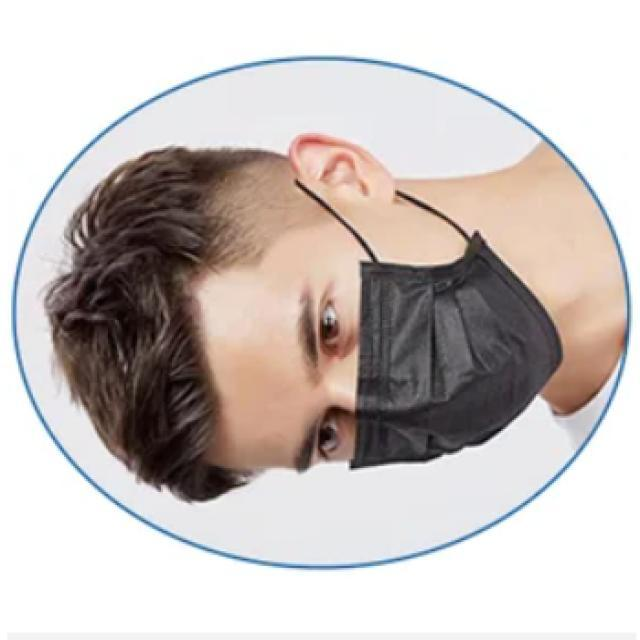face_mask: (191, 163, 554, 472)
